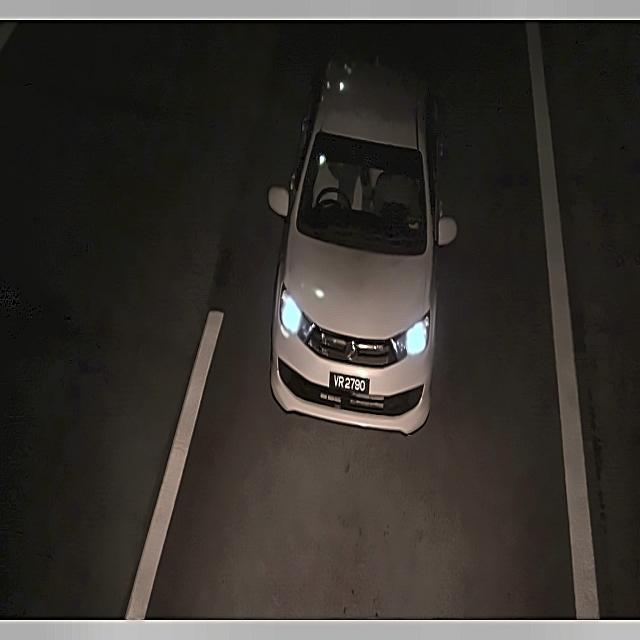car: (326, 365, 374, 401)
